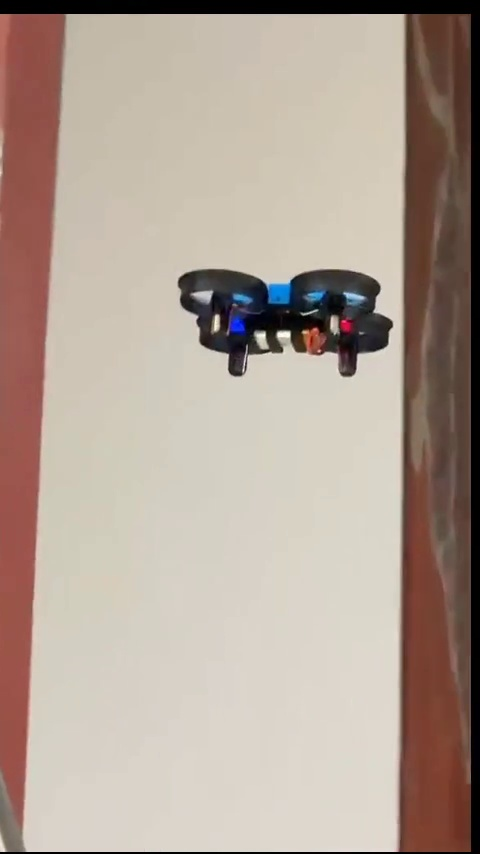drone: (174, 272, 398, 377)
